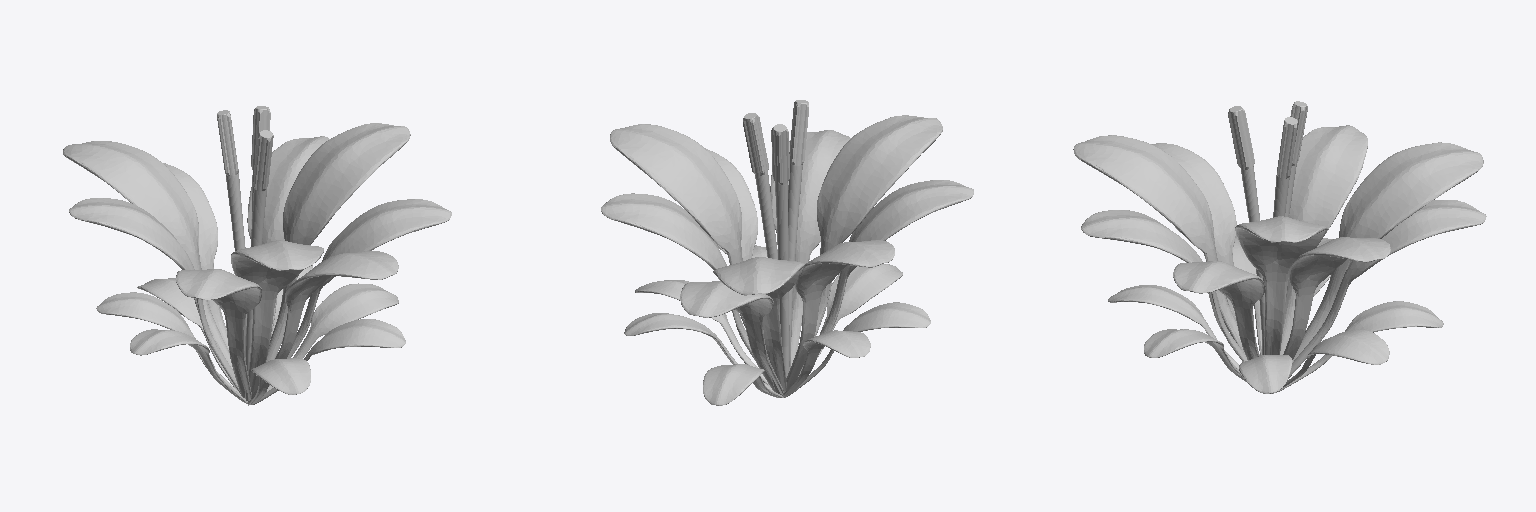
Rendered from Planta_1.obj.
3 views of the same model, side by side, from view 1: azimuth 30°, elevation 25°; view 2: azimuth 150°, elevation 25°; view 3: azimuth 270°, elevation 25° (orthographic).
Visible parts, largest first — view 1: Plane.037_Plane.025_Plane.037_Plane.026; view 2: Plane.037_Plane.025_Plane.037_Plane.026; view 3: Plane.037_Plane.025_Plane.037_Plane.026.
Part boxes in pixels (left/top/right/bottom): Plane.037_Plane.025_Plane.037_Plane.026: left=63, top=106, right=451, bottom=405; Plane.037_Plane.025_Plane.037_Plane.026: left=601, top=100, right=973, bottom=405; Plane.037_Plane.025_Plane.037_Plane.026: left=1073, top=101, right=1486, bottom=393.
Bounding box in the file's own units: 35.5 × 31.51 × 41.46.